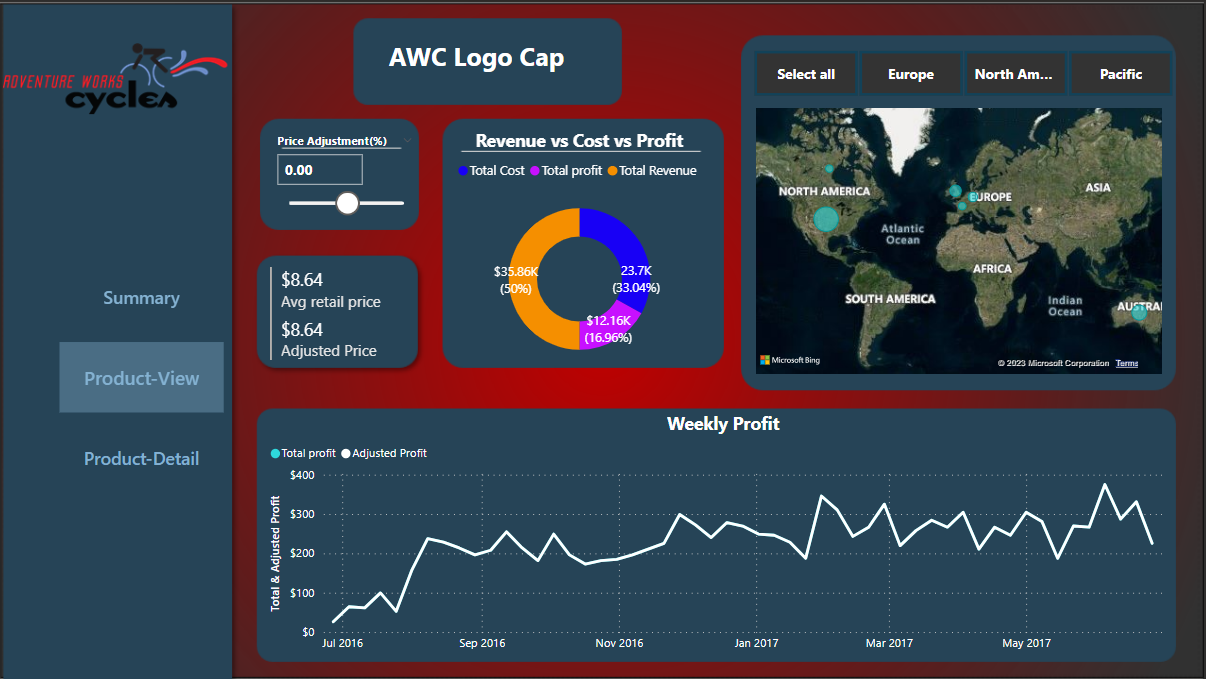

The page's visual inventory and layout, read from the dashboard file:
{"tool":"powerbi","page":{"name":"Product-View","canvas":[1280,720],"ordinal":1},"visuals":[{"type":"slicer","fields":{"Values":["AW_Territories_lookup.Continent"]},"box":[775.6,47.7,492.7,62],"z":0},{"type":"map","fields":{"Category":["AW_Territories_lookup.Country"],"Size":["AW_Sales.Total orders"]},"box":[797.9,109.7,440.3,292.5],"z":1000},{"type":"slicer","fields":{"Values":["Price Adjustment(%).Price Adjustment(%)"]},"box":[282.9,136.7,168.5,108.1],"z":2000},{"type":"multiRowCard","fields":{"Values":["AW_product_lookup.Avg retail price","AW_product_lookup.Adjusted Price"]},"box":[282.9,278.1,152.6,108.1],"z":3000},{"type":"lineChart","title":"Weekly Profit","fields":{"Y":["AW_Sales.Total profit","AW_Sales.Adjusted Profit"],"Category":["AW_calender_lookup.Start of Week"]},"box":[282.9,437.1,971.1,263.8],"z":4000},{"type":"card","fields":{"Values":["Min(AW_product_lookup.ProductName)"]},"box":[367.2,25.4,279.7,71.5],"z":5000},{"type":"donutChart","title":"Revenue vs Cost vs Profit","fields":{"Y":["AW_Sales.Total Cost","AW_Sales.Total profit","AW_Sales.Total Revenue"]},"box":[456.2,136.7,319.5,265.4],"z":6000},{"type":"image","box":[0,0,251.1,168.5],"z":7000},{"type":"pageNavigator","box":[65.2,278.1,174.8,247.9],"z":7001}]}

Visuals, with their boxes on the page's 1280x720 design canvas (x1, y1, x2, y2). These are canvas units, not pixel positions in the 1206x679 screenshot, which may show the page scaled, cropped or inside an application window:
slicer - AW_Territories_lookup.Continent: x1=776, y1=48, x2=1268, y2=110
map - AW_Territories_lookup.Country x AW_Sales.Total orders: x1=798, y1=110, x2=1238, y2=402
slicer - Price Adjustment(%).Price Adjustment(%): x1=283, y1=137, x2=451, y2=245
multiRowCard - AW_product_lookup.Avg retail price x AW_product_lookup.Adjusted Price: x1=283, y1=278, x2=436, y2=386
"Weekly Profit" lineChart: x1=283, y1=437, x2=1254, y2=701
card - Min(AW_product_lookup.ProductName): x1=367, y1=25, x2=647, y2=97
"Revenue vs Cost vs Profit" donutChart: x1=456, y1=137, x2=776, y2=402
image: x1=0, y1=0, x2=251, y2=168
pageNavigator: x1=65, y1=278, x2=240, y2=526
